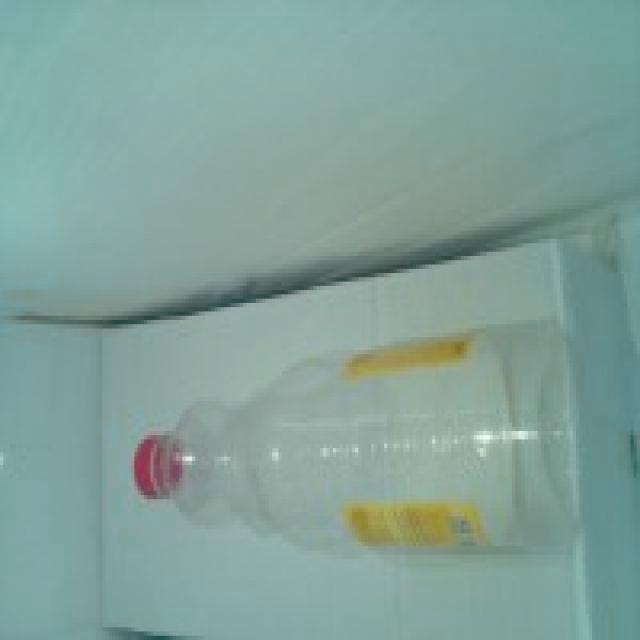bottle: (132, 319, 578, 558)
